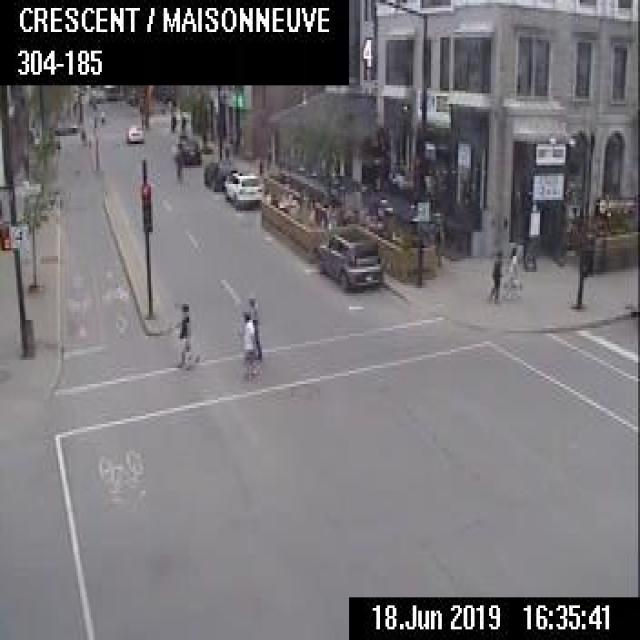pedestrian: (240, 311, 258, 377), (247, 293, 262, 360), (175, 301, 189, 363), (487, 248, 502, 300), (506, 244, 518, 298), (173, 147, 182, 178)
vehicle: (316, 228, 382, 289), (222, 170, 262, 208), (202, 158, 235, 189), (177, 137, 200, 162), (125, 123, 144, 142)
